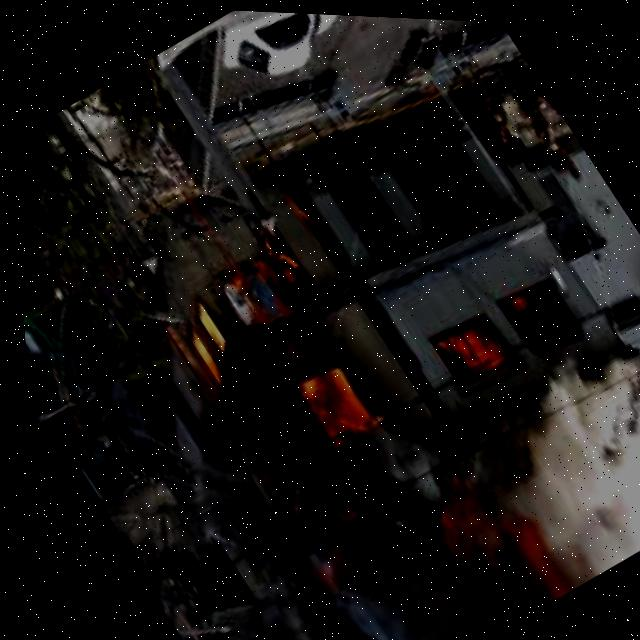Smoke: (291, 303, 640, 640)
